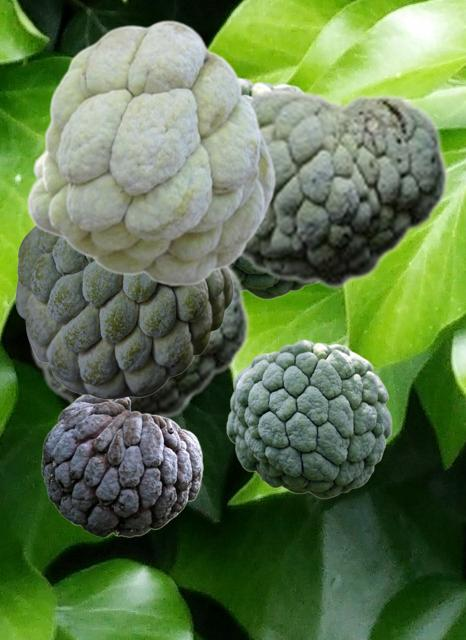atis: (26, 19, 275, 285), (239, 86, 448, 289), (15, 226, 232, 398), (28, 266, 249, 420), (226, 339, 391, 498), (41, 395, 202, 536), (232, 77, 313, 299)
